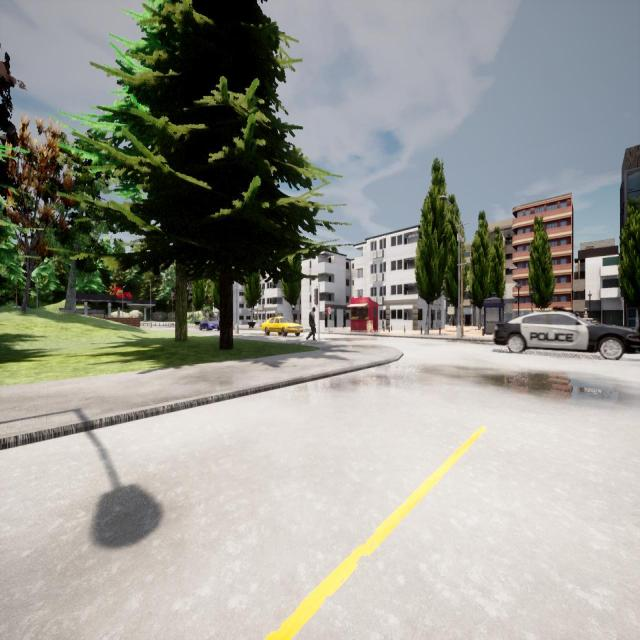Pedestrian: (306, 307, 316, 340)
Traffic_Signs: (326, 306, 331, 314)
Vehicle: (494, 311, 640, 359), (261, 316, 303, 337), (199, 318, 219, 331)
